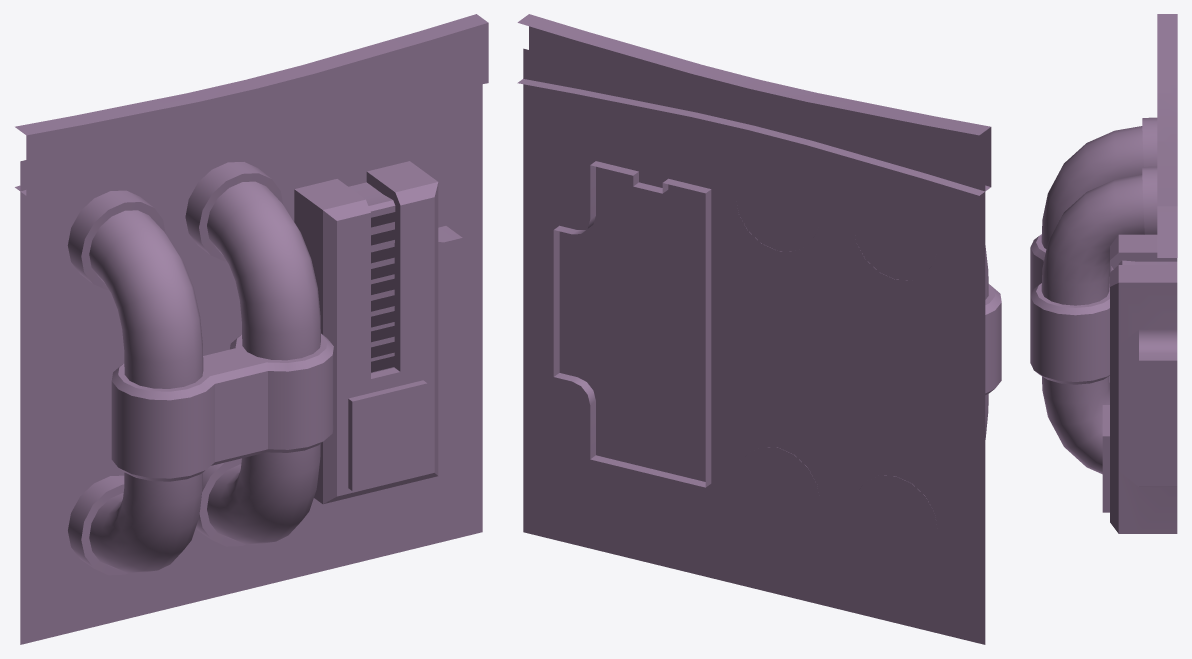
Rendered from Wallpipes_2.fbx.
The picture shows the model from 3 angles, left to right: view 1: azimuth 30°, elevation 25°; view 2: azimuth 150°, elevation 25°; view 3: azimuth 270°, elevation 25°; orthographic projection. The views are drawn at different scales.
Parts seen in each view (by area): view 1: Wallpipes_2; view 2: Wallpipes_2; view 3: Wallpipes_2.
Boxes of the visible parts, x1,y1,x2,y2 form: Wallpipes_2: (15, 14, 488, 644); Wallpipes_2: (517, 14, 1001, 644); Wallpipes_2: (1030, 14, 1177, 533).
Size of the model in its own units: 4 by 4.25 by 1.29.
